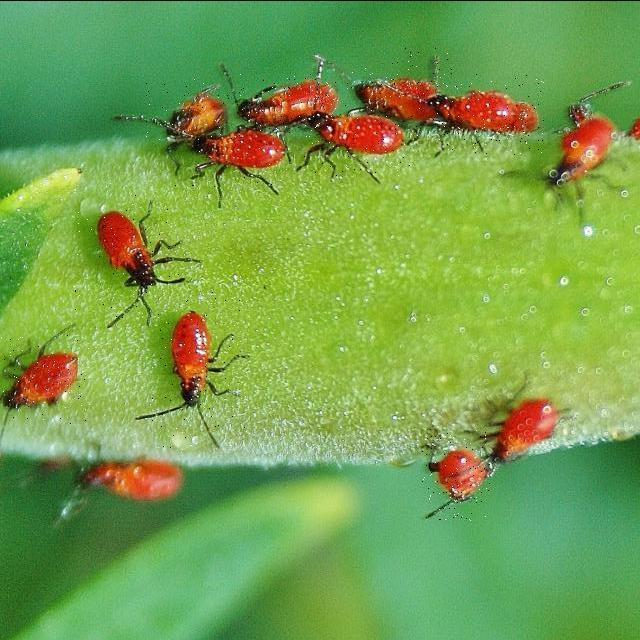aphid: (152, 287, 247, 450), (74, 182, 182, 317), (434, 73, 545, 155), (483, 375, 567, 483), (303, 100, 418, 176), (0, 334, 91, 423), (347, 47, 453, 122), (138, 77, 241, 140), (422, 428, 489, 520), (188, 129, 294, 186), (237, 73, 339, 128)
